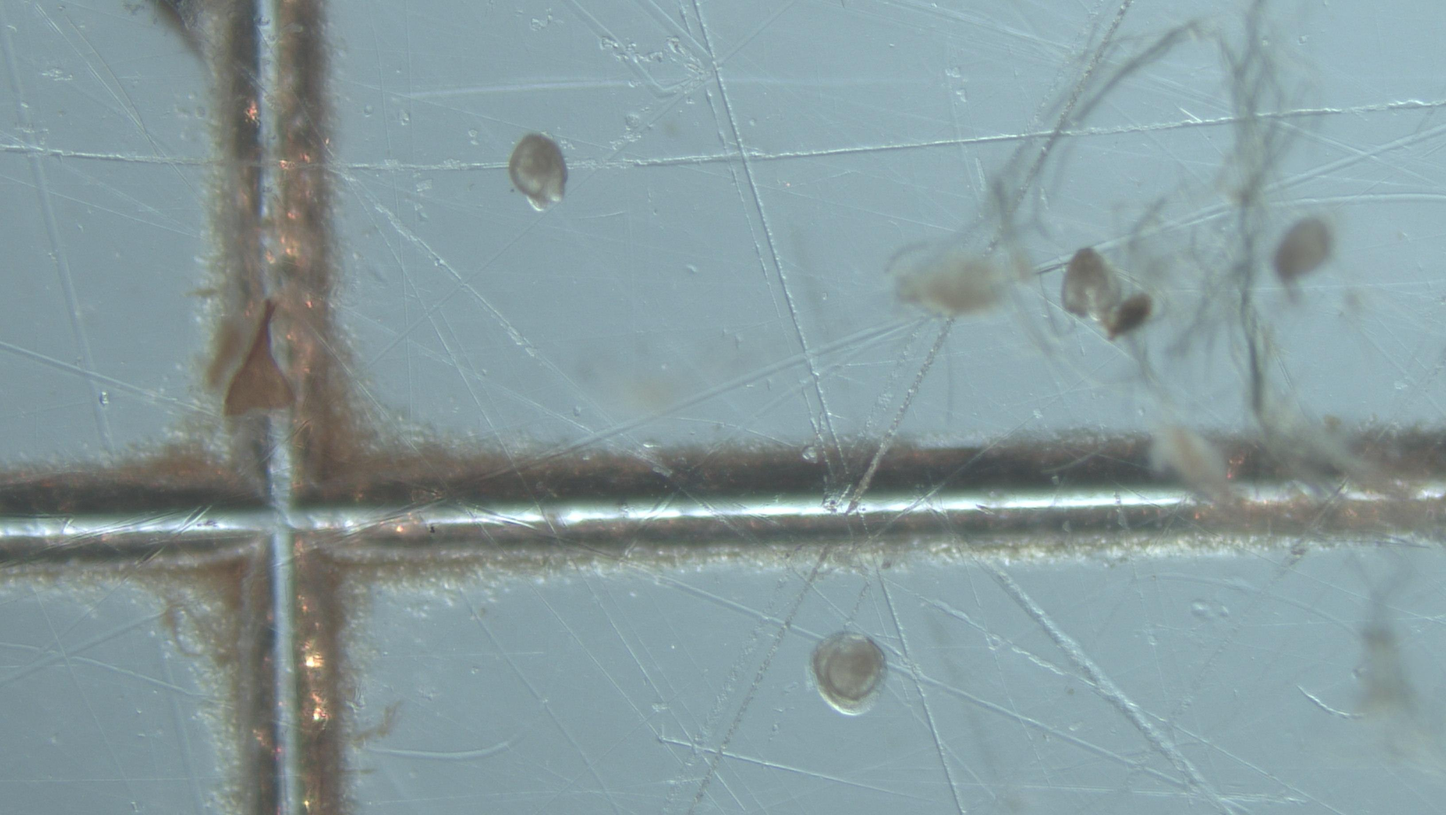live: (810, 631, 886, 716), (509, 133, 568, 212)
